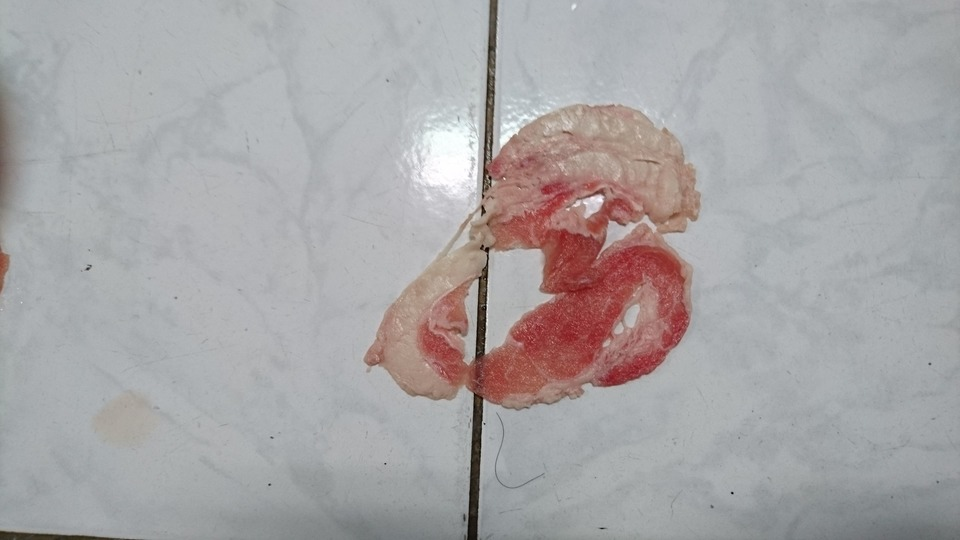restructured meat: (365, 93, 703, 408)
